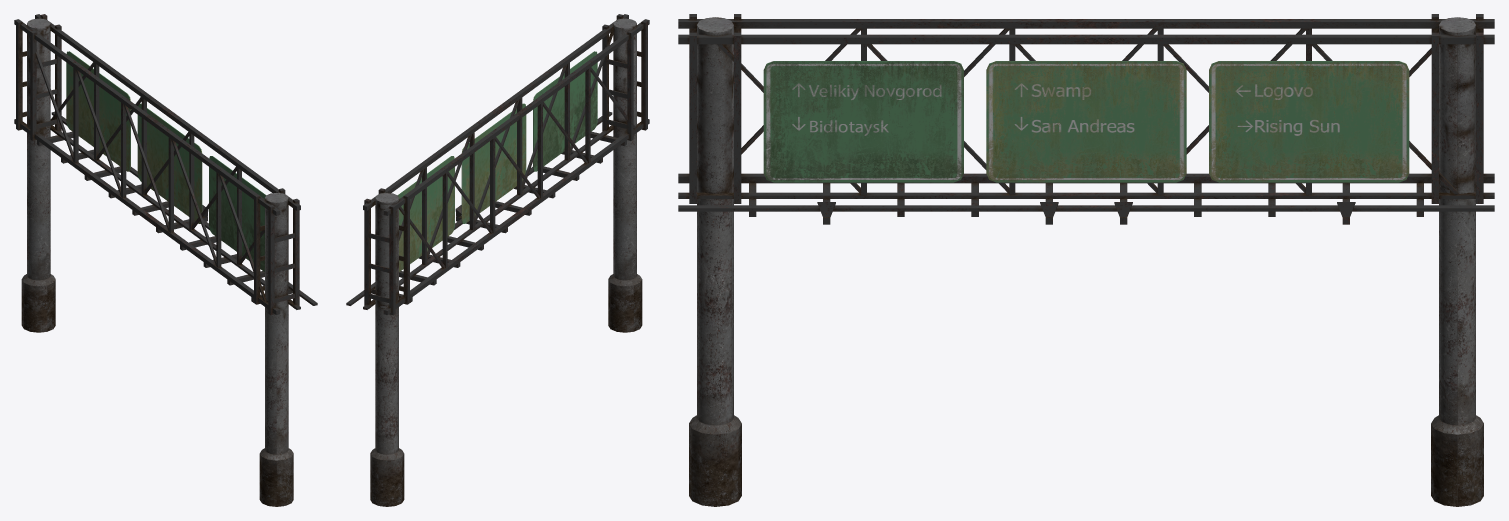
Rendered from RoadBillBoard.fbx.
3 renders of one model, left to right at view 1: azimuth 30°, elevation 25°; view 2: azimuth 150°, elevation 25°; view 3: azimuth 270°, elevation 25°, orthographic. The views are drawn at different scales.
Parts seen in each view (by area): view 1: SM_Bilboard_01.001; view 2: SM_Bilboard_01.001; view 3: SM_Bilboard_01.001.
Part boxes in pixels (box(x1,y1,x2,y2)): SM_Bilboard_01.001: box(14, 14, 317, 506); SM_Bilboard_01.001: box(346, 14, 649, 506); SM_Bilboard_01.001: box(678, 14, 1494, 506).
Size of the model in its own units: 126 by 700 by 1100.
